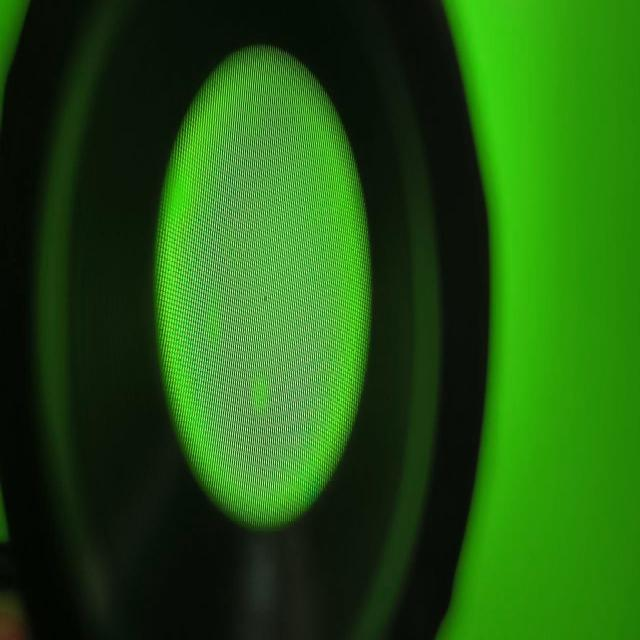Dead pixel: (264, 294, 268, 302)
